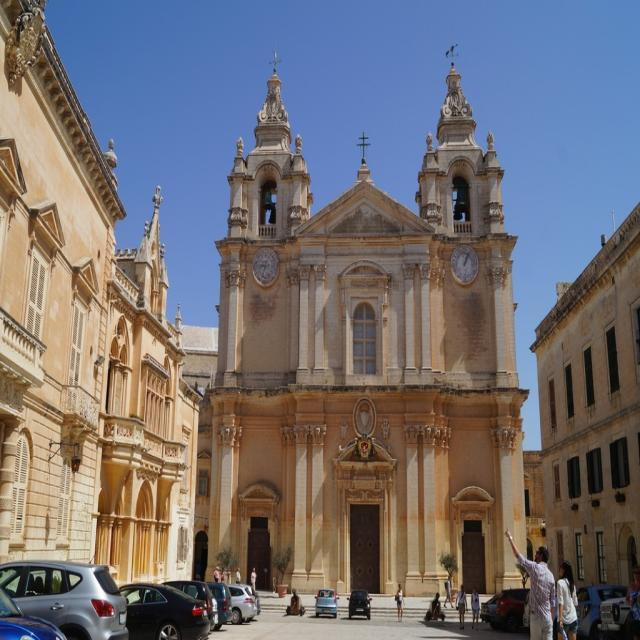car: (344, 589, 372, 620), (313, 585, 339, 617)
